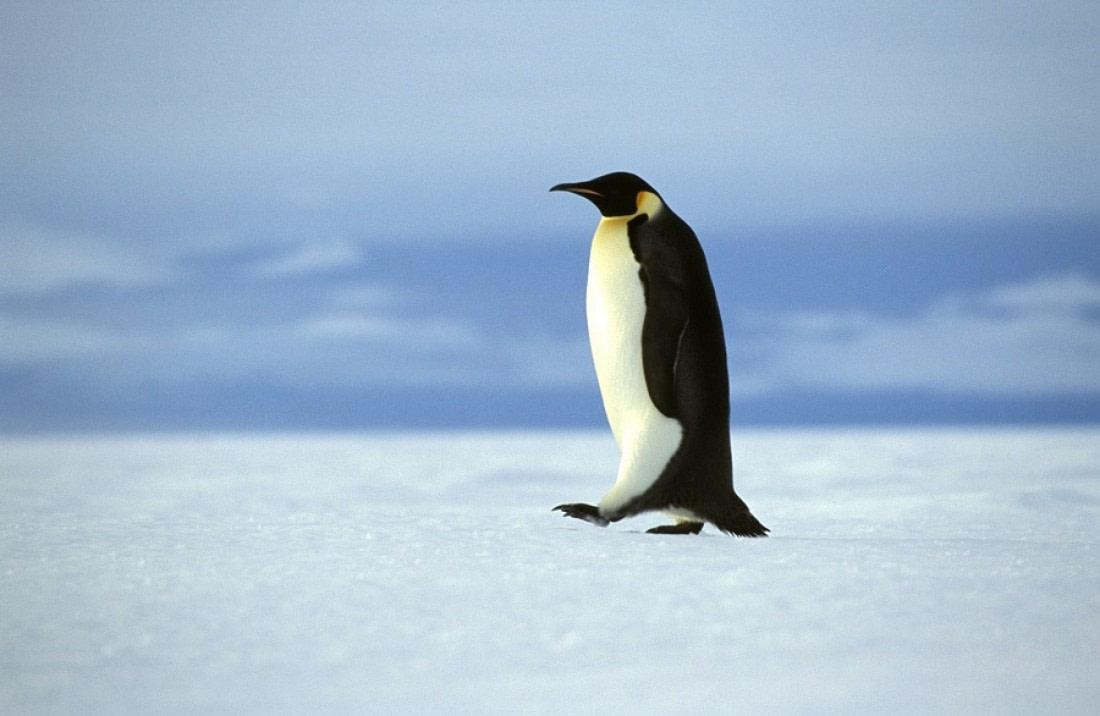emporer: (534, 158, 783, 561)
